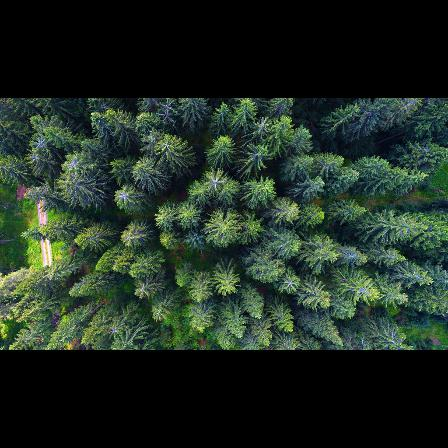Sick: (206, 172, 231, 193), (31, 132, 55, 153), (116, 184, 133, 208), (133, 280, 153, 300)
